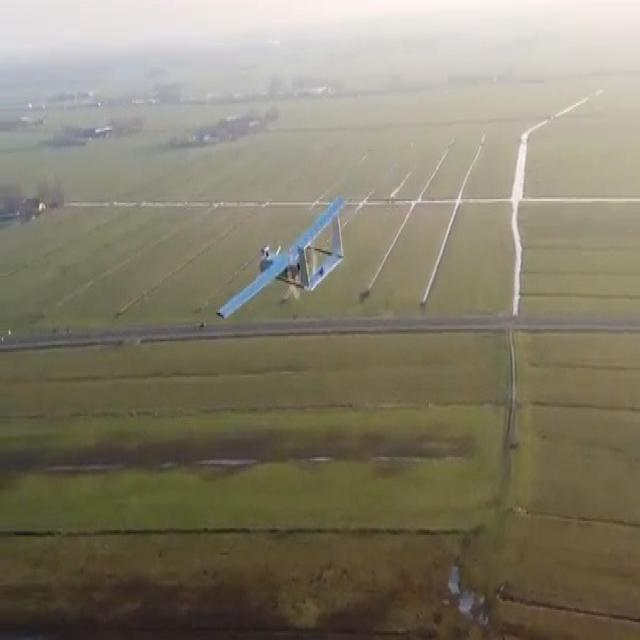iha: (218, 189, 349, 323)
